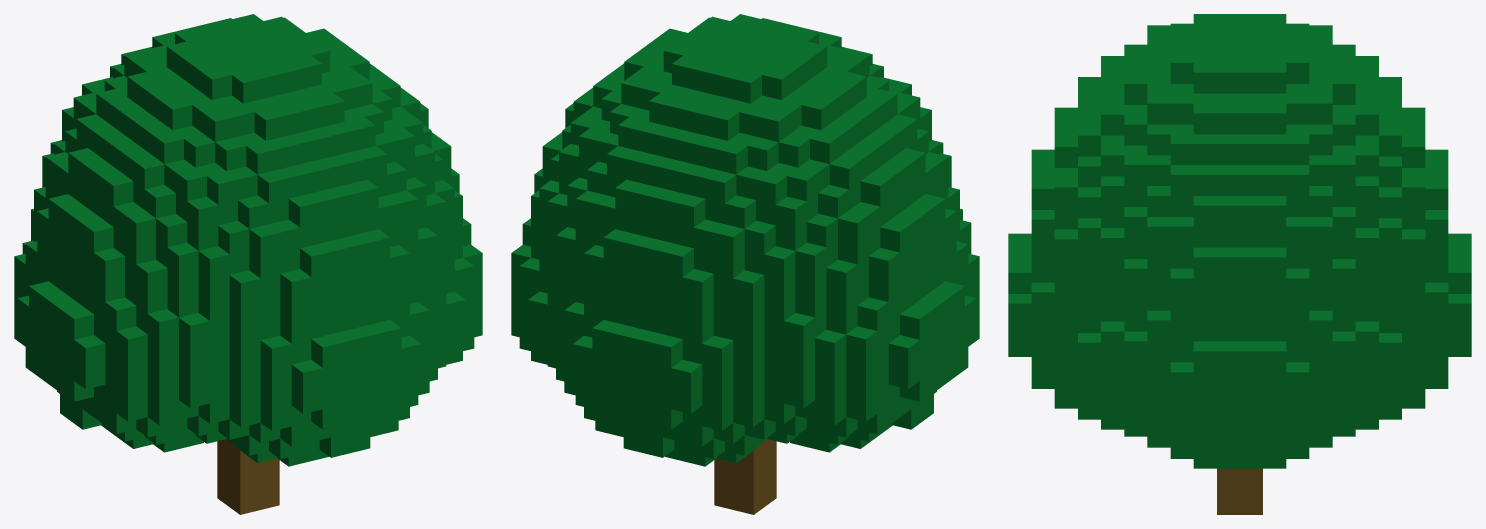
File: guoshu2.obj
3 views of the same model, side by side, from view 1: azimuth 30°, elevation 25°; view 2: azimuth 150°, elevation 25°; view 3: azimuth 270°, elevation 25° (orthographic).
Bounding box in the file's own units: 4 × 4.4 × 4.
Materials: 1 (1 with a texture image).
